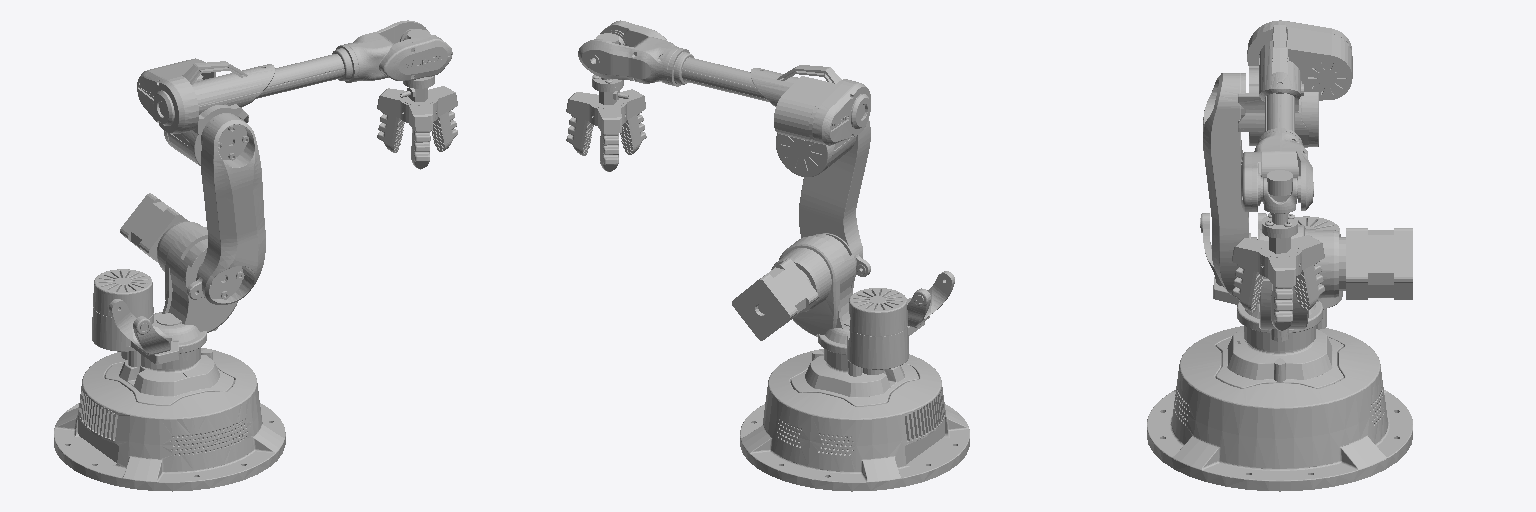
robot.urdf — wlkata_mirobot_description:
<?xml version="1.0" encoding="utf-8"?>
<!-- This URDF was automatically created by SolidWorks to URDF Exporter! Originally created by Stephen Brawner (brawner@gmail.com) 
     Commit Version: 1.6.0-4-g7f85cfe  Build Version: 1.6.7995.38578
     For more information, please see http://wiki.ros.org/sw_urdf_exporter -->
<robot
  name="wlkata_mirobot_description">
  <link
    name="base_link">
    <inertial>
      <origin
        xyz="0.00072637 2.209E-05 0.024286"
        rpy="0 0 0" />
      <mass
        value="5.4549" />
      <inertia
        ixx="0.0068505"
        ixy="-3.1029E-07"
        ixz="4.3798E-07"
        iyy="0.0066527"
        iyz="-7.7717E-07"
        izz="0.011461" />
    </inertial>
    <visual>
      <origin
        xyz="0 0 0"
        rpy="0 0 0" />
      <geometry>
        <mesh
          filename="package://wlkata_mirobot_description/meshes/base_link.STL" />
      </geometry>
      <material
        name="">
        <color
          rgba="0.75294 0.75294 0.75294 1" />
      </material>
    </visual>
    <collision>
      <origin
        xyz="0 0 0"
        rpy="0 0 0" />
      <geometry>
        <mesh
          filename="package://wlkata_mirobot_description/meshes/base_link.STL" />
      </geometry>
    </collision>
  </link>
  <link
    name="link1">
    <inertial>
      <origin
        xyz="0.010226 0.017244 -0.018123"
        rpy="0 0 0" />
      <mass
        value="1.965" />
      <inertia
        ixx="0.0014023"
        ixy="3.5897E-05"
        ixz="3.8285E-05"
        iyy="0.00073623"
        iyz="-0.00019681"
        izz="0.0013706" />
    </inertial>
    <visual>
      <origin
        xyz="0 0 0"
        rpy="0 0 0" />
      <geometry>
        <mesh
          filename="package://wlkata_mirobot_description/meshes/link1.STL" />
      </geometry>
      <material
        name="">
        <color
          rgba="0.75294 0.75294 0.75294 1" />
      </material>
    </visual>
    <collision>
      <origin
        xyz="0 0 0"
        rpy="0 0 0" />
      <geometry>
        <mesh
          filename="package://wlkata_mirobot_description/meshes/link1.STL" />
      </geometry>
    </collision>
  </link>
  <joint
    name="joint1"
    type="revolute">
    <origin
      xyz="0 0 0.127"
      rpy="0 0 0" />
    <parent
      link="base_link" />
    <child
      link="link1" />
    <axis
      xyz="0 0 1" />
    <limit
      lower="-1.919"
      upper="2.792"
      effort="100.1"
      velocity="1.1" />
  </joint>
  <link
    name="link2">
    <inertial>
      <origin
        xyz="0.054564 0.0036247 -0.02961"
        rpy="0 0 0" />
      <mass
        value="0.7031" />
      <inertia
        ixx="0.00012083"
        ixy="4.1868E-05"
        ixz="6.1178E-05"
        iyy="0.00091302"
        iyz="1.6109E-06"
        izz="0.00096355" />
    </inertial>
    <visual>
      <origin
        xyz="0 0 0"
        rpy="0 0 0" />
      <geometry>
        <mesh
          filename="package://wlkata_mirobot_description/meshes/link2.STL" />
      </geometry>
      <material
        name="">
        <color
          rgba="0.75294 0.75294 0.75294 1" />
      </material>
    </visual>
    <collision>
      <origin
        xyz="0 0 0"
        rpy="0 0 0" />
      <geometry>
        <mesh
          filename="package://wlkata_mirobot_description/meshes/link2.STL" />
      </geometry>
    </collision>
  </link>
  <joint
    name="joint2"
    type="revolute">
    <origin
      xyz="0.029687 0 0"
      rpy="-1.5708 -1.5708 0" />
    <parent
      link="link1" />
    <child
      link="link2" />
    <axis
      xyz="0 0 1" />
    <limit
      lower="-0.61"
      upper="1.221"
      effort="100.1"
      velocity="1.1" />
  </joint>
  <link
    name="link3">
    <inertial>
      <origin
        xyz="0.010015 0.0067303 0.0058691"
        rpy="0 0 0" />
      <mass
        value="1.1994" />
      <inertia
        ixx="0.00055805"
        ixy="-1.8278E-06"
        ixz="-3.762E-05"
        iyy="0.00046464"
        iyz="1.9262E-05"
        izz="0.00060548" />
    </inertial>
    <visual>
      <origin
        xyz="0 0 0"
        rpy="0 0 0" />
      <geometry>
        <mesh
          filename="package://wlkata_mirobot_description/meshes/link3.STL" />
      </geometry>
      <material
        name="">
        <color
          rgba="0.75294 0.75294 0.75294 1" />
      </material>
    </visual>
    <collision>
      <origin
        xyz="0 0 0"
        rpy="0 0 0" />
      <geometry>
        <mesh
          filename="package://wlkata_mirobot_description/meshes/link3.STL" />
      </geometry>
    </collision>
  </link>
  <joint
    name="joint3"
    type="revolute">
    <origin
      xyz="0.108 0 0"
      rpy="0 0 0" />
    <parent
      link="link2" />
    <child
      link="link3" />
    <axis
      xyz="0 0 1" />
    <limit
      lower="-2.094"
      upper="1.047"
      effort="100.1"
      velocity="1.1" />
  </joint>
  <link
    name="link4">
    <inertial>
      <origin
        xyz="-2.27494176252563E-06 0.00429946429752296 -0.0217007586034353"
        rpy="0 0 0" />
      <mass
        value="0.261362285743437" />
      <inertia
        ixx="7.62946525456058E-05"
        ixy="-1.8813595005788E-09"
        ixz="1.37948236797395E-08"
        iyy="8.44036851142834E-05"
        iyz="-7.8757185275307E-07"
        izz="1.78027327989624E-05" />
    </inertial>
    <visual>
      <origin
        xyz="0 0 0"
        rpy="0 0 0" />
      <geometry>
        <mesh
          filename="package://wlkata_mirobot_description/meshes/link4.STL" />
      </geometry>
      <material
        name="">
        <color
          rgba="0.752941176470588 0.752941176470588 0.752941176470588 1" />
      </material>
    </visual>
    <collision>
      <origin
        xyz="0 0 0"
        rpy="0 0 0" />
      <geometry>
        <mesh
          filename="package://wlkata_mirobot_description/meshes/link4.STL" />
      </geometry>
    </collision>
  </link>
  <joint
    name="joint4"
    type="revolute">
    <origin
      xyz="0.02 0.16875 0"
      rpy="-1.5708 0 0" />
    <parent
      link="link3" />
    <child
      link="link4" />
    <axis
      xyz="0 0 1" />
    <limit
      lower="-3.141"
      upper="2.53"
      effort="100.1"
      velocity="1.1" />
  </joint>
  <link
    name="link5">
    <inertial>
      <origin
        xyz="-1.49291428453435E-05 0.00217467833122231 0.000185578609392454"
        rpy="0 0 0" />
      <mass
        value="0.0483173226824662" />
      <inertia
        ixx="3.27681389556251E-06"
        ixy="-2.35584003566182E-09"
        ixz="1.59030016893255E-10"
        iyy="2.49207926320219E-06"
        iyz="1.94517744625766E-08"
        izz="2.72634770886973E-06" />
    </inertial>
    <visual>
      <origin
        xyz="0 0 0"
        rpy="0 0 0" />
      <geometry>
        <mesh
          filename="package://wlkata_mirobot_description/meshes/link5.STL" />
      </geometry>
      <material
        name="">
        <color
          rgba="0.752941176470588 0.752941176470588 0.752941176470588 1" />
      </material>
    </visual>
    <collision>
      <origin
        xyz="0 0 0"
        rpy="0 0 0" />
      <geometry>
        <mesh
          filename="package://wlkata_mirobot_description/meshes/link5.STL" />
      </geometry>
    </collision>
  </link>
  <joint
    name="joint5"
    type="revolute">
    <origin
      xyz="0 0 0"
      rpy="1.5708 -1.5708 0" />
    <parent
      link="link4" />
    <child
      link="link5" />
    <axis
      xyz="0 0 1" />
    <limit
      lower="-3.49"
      upper="0.523"
      effort="100.1"
      velocity="1.1" />
  </joint>
  <link
    name="link6">
    <inertial>
      <origin
        xyz="-5.96518891830544E-05 4.61869313414281E-06 0.0512817501478371"
        rpy="0 0 0" />
      <mass
        value="0.228704914887219" />
      <inertia
        ixx="2.95425401479579E-05"
        ixy="1.6149345364096E-10"
        ixz="9.93219991005698E-09"
        iyy="2.95495732583093E-05"
        iyz="-1.24362201752828E-09"
        izz="1.94804289719368E-05" />
    </inertial>
    <visual>
      <origin
        xyz="0 0 0"
        rpy="0 0 0" />
      <geometry>
        <mesh
          filename="package://wlkata_mirobot_description/meshes/link6.STL" />
      </geometry>
      <material
        name="">
        <color
          rgba="0.752941176470588 0.752941176470588 0.752941176470588 1" />
      </material>
    </visual>
    <collision>
      <origin
        xyz="0 0 0"
        rpy="0 0 0" />
      <geometry>
        <mesh
          filename="package://wlkata_mirobot_description/meshes/link6.STL" />
      </geometry>
    </collision>
  </link>
  <joint
    name="joint6"
    type="revolute">
    <origin
      xyz="0 0 0"
      rpy="-1.5708 0 0" />
    <parent
      link="link5" />
    <child
      link="link6" />
    <axis
      xyz="0 0 -1" />
    <limit
      lower="-6.283"
      upper="6.283"
      effort="100.1"
      velocity="1.1" />
  </joint>
</robot>

--- Facts derived from the render (not from the file) ---
3 views of the same robot in one strip: view 1: azimuth 30°, elevation 25°; view 2: azimuth 150°, elevation 25°; view 3: azimuth 270°, elevation 25° (orthographic).
Model wlkata_mirobot_description with 7 links and 6 joints (6 revolute), rooted at base_link, posed all joints at 0.
Visible links, largest first — view 1: base_link, link1, link2, link3, link6, link4; view 2: base_link, link1, link3, link2, link6, link4; view 3: base_link, link1, link3, link6, link2, link4, link5.
Link boxes in pixels (<box>): base_link: <box>54,348,285,491</box>; link1: <box>92,193,237,368</box>; link2: <box>187,113,265,304</box>; link3: <box>137,45,358,165</box>; link6: <box>377,76,457,169</box>; link4: <box>344,20,452,81</box>; base_link: <box>740,349,969,491</box>; link1: <box>732,234,954,376</box>; link3: <box>667,48,870,176</box>; link2: <box>799,119,870,276</box>; link6: <box>566,75,646,171</box>; link4: <box>578,20,679,84</box>; base_link: <box>1147,326,1412,491</box>; link1: <box>1200,213,1412,350</box>; link3: <box>1238,20,1352,147</box>; link6: <box>1232,213,1324,330</box>; link2: <box>1203,73,1256,294</box>; link4: <box>1241,131,1313,211</box>; link5: <box>1263,170,1297,213</box>.
Bounding box of the posed robot: 0.3088 × 0.16 × 0.2817 m (x, y, z).
Meshes: 7 distinct files referenced, 7 mesh visuals loaded (7 binary STL).
